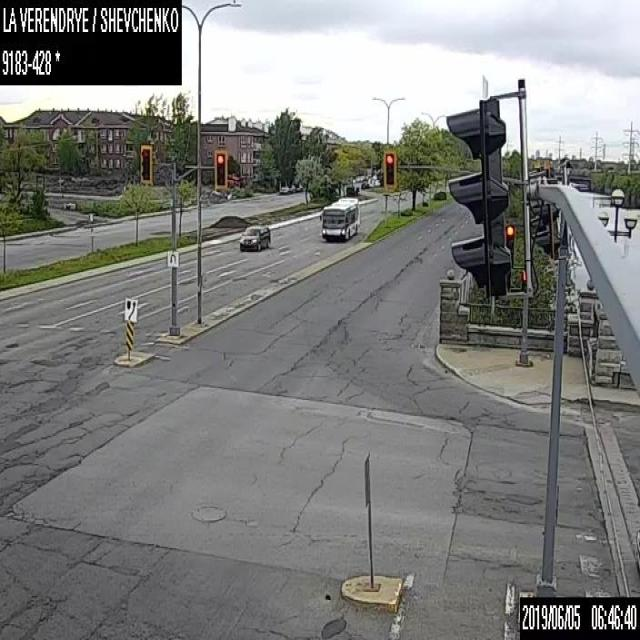bus: (319, 195, 358, 240)
vehicle: (239, 222, 270, 250), (286, 183, 295, 193), (279, 185, 288, 193), (361, 180, 368, 187)
